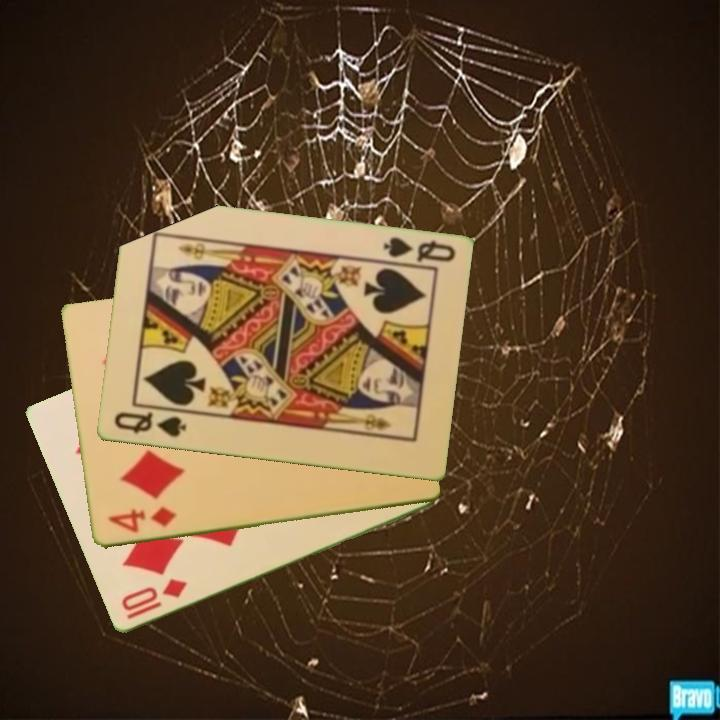10d: (117, 575, 190, 623)
4d: (104, 503, 179, 536)
Qs: (376, 234, 458, 271), (110, 408, 189, 441)
